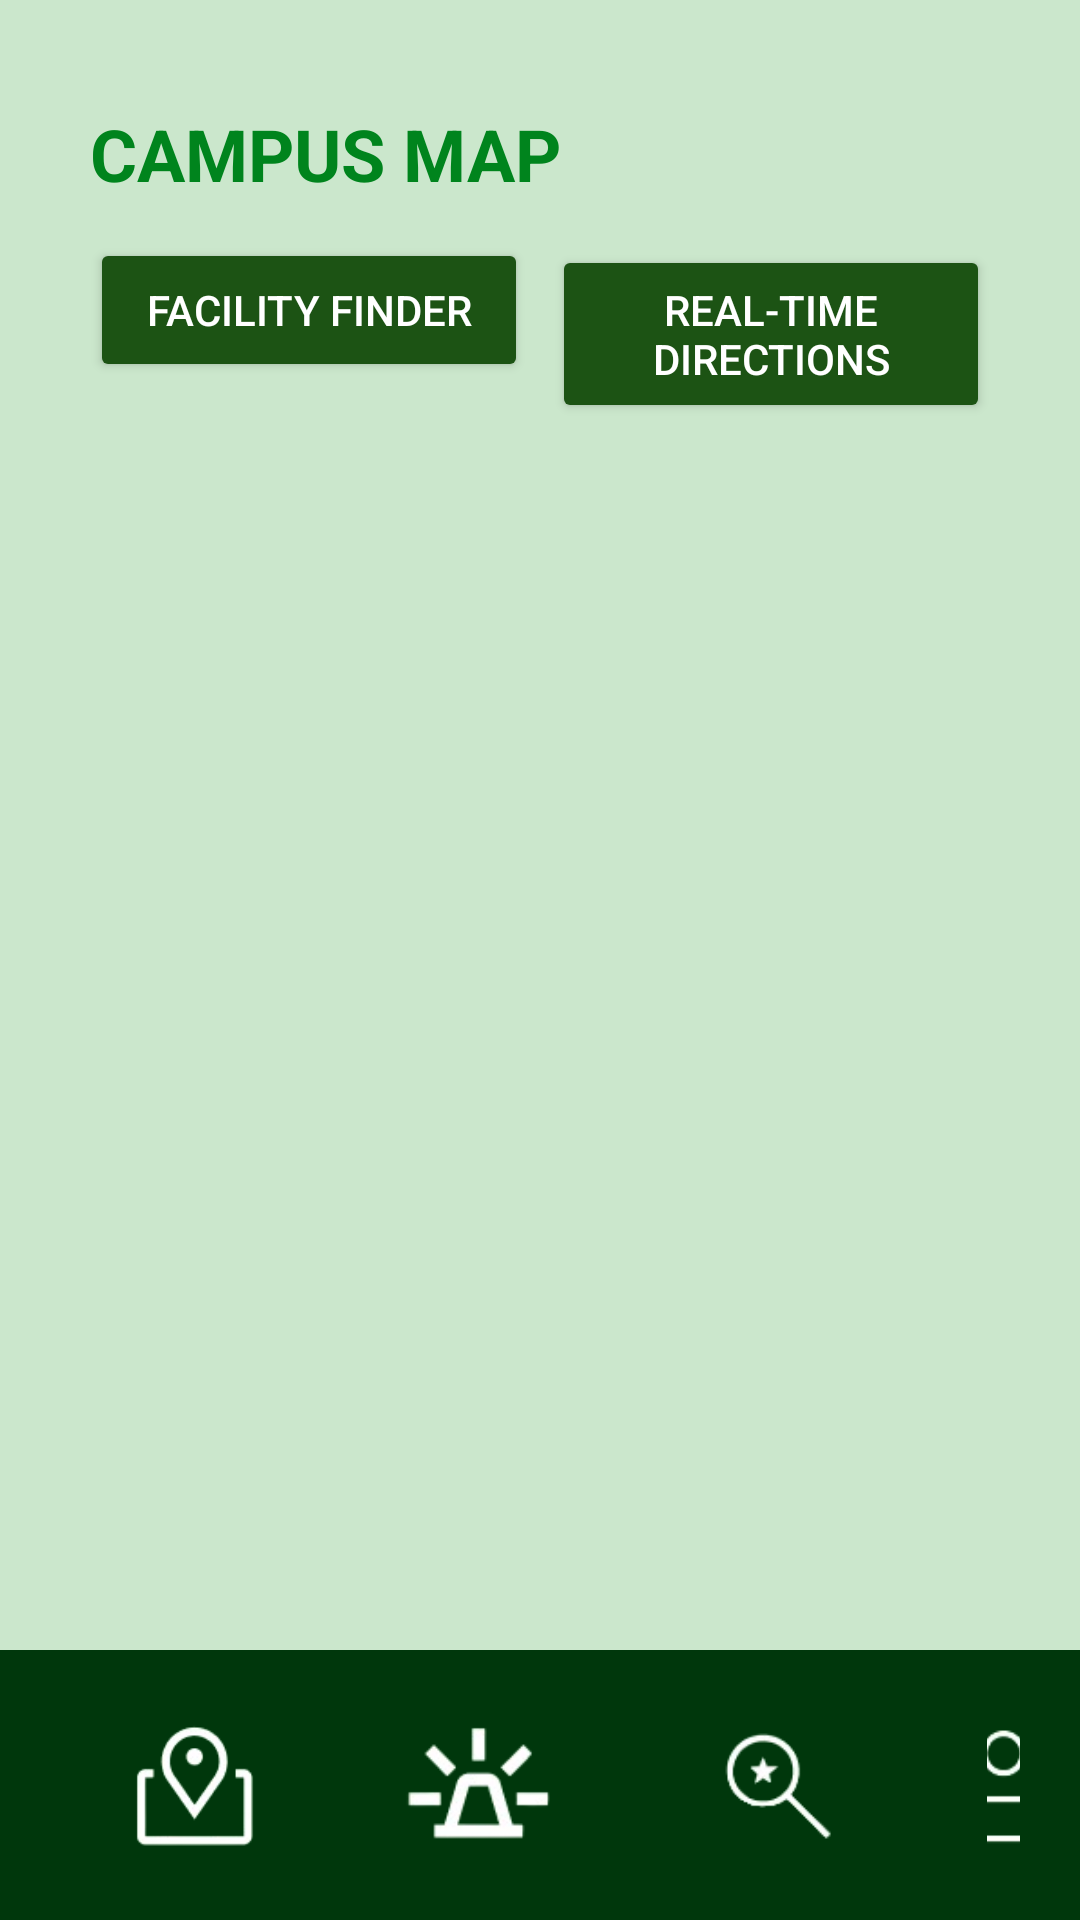

Screen size 1080x1920. Icon name, then its center in pixels as (x,y):
Campus Map: (195,1786)
Emergency: (479,1783)
Saved: (778,1786)
